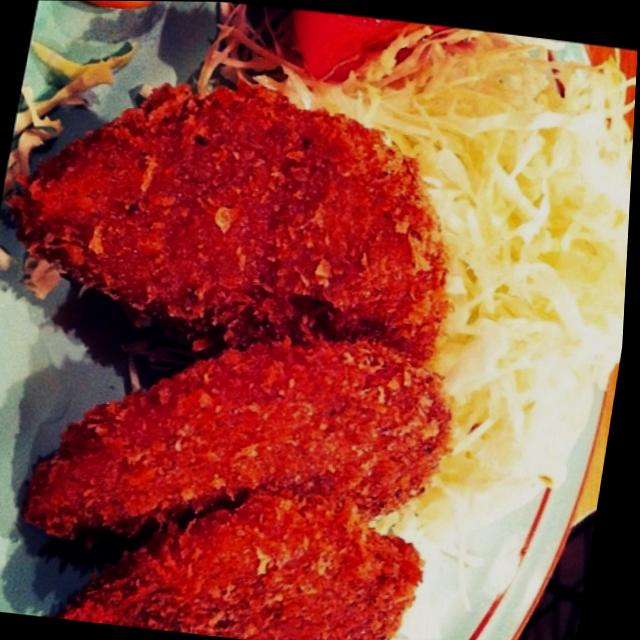炸货点心: (0, 42, 514, 640)
